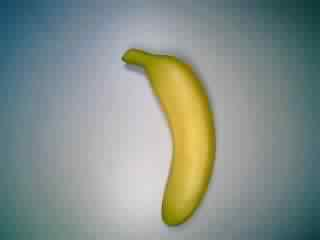banana: (119, 42, 219, 229)
